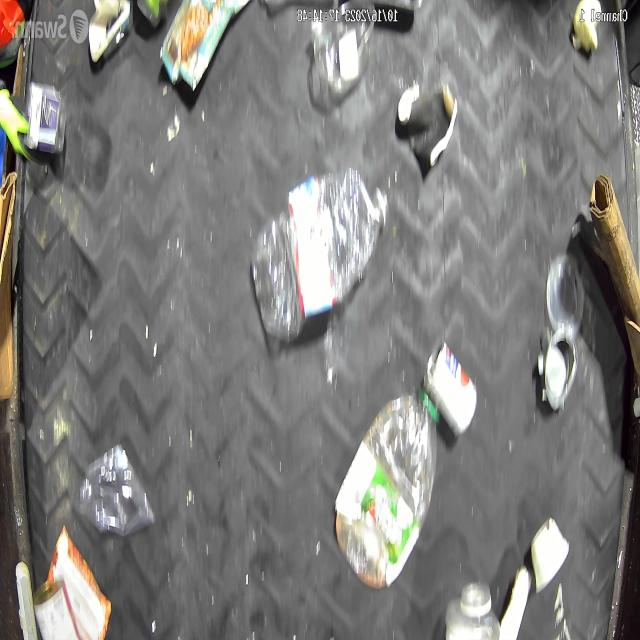can: (422, 340, 479, 444), (537, 321, 583, 419), (544, 248, 586, 334)
plastic_bottle: (252, 160, 388, 339), (334, 393, 438, 588)
